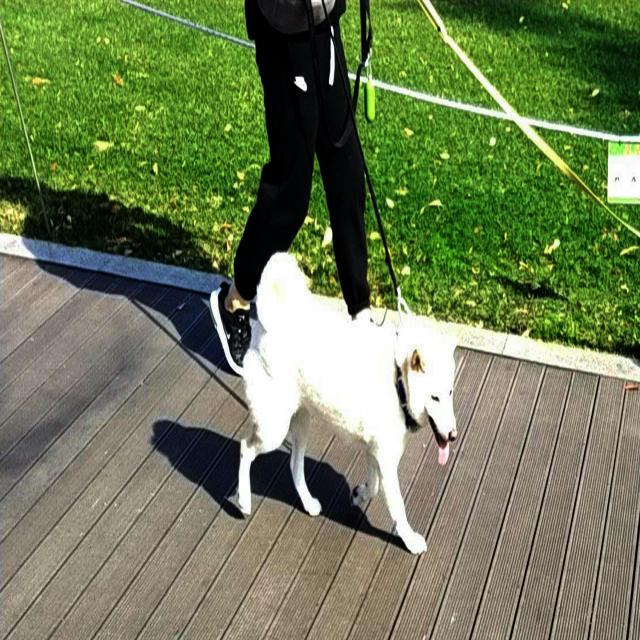Leashed_Dog: (239, 0, 459, 555)
